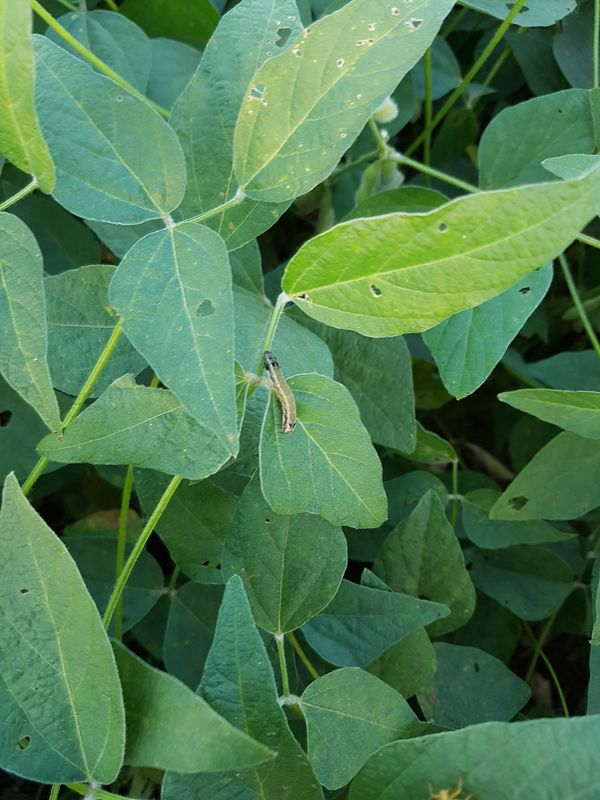Spodoptera_albula: (252, 343, 318, 438)
